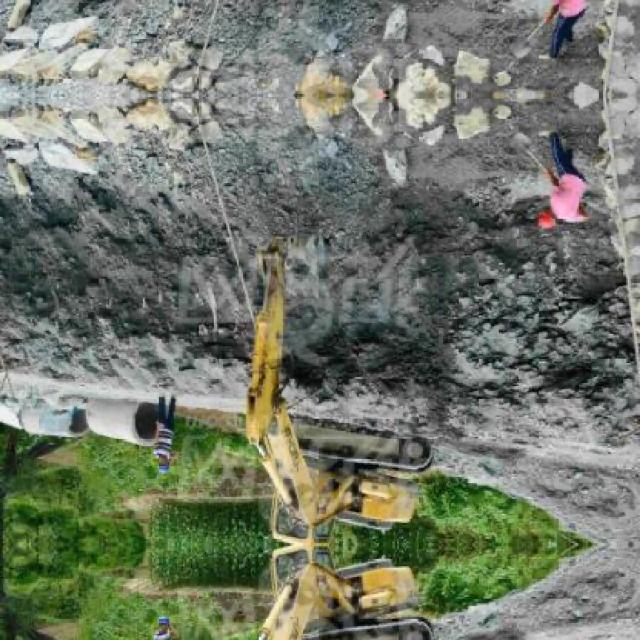con casco: (495, 178, 572, 240), (131, 446, 170, 497)
